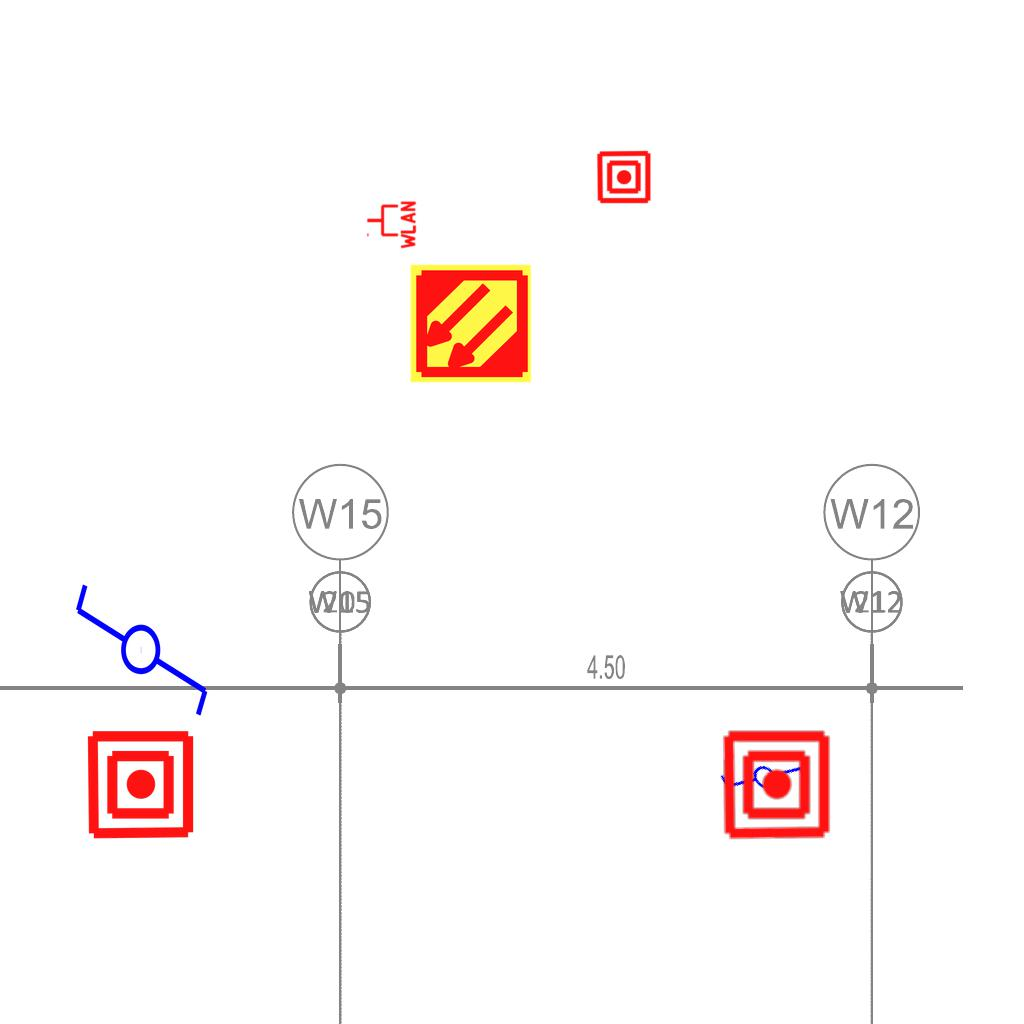ASR_Ansaugrauchmelder: (408, 261, 533, 386)
NAM-Nichtautomatischer_Melder: (84, 728, 197, 841), (720, 728, 833, 841), (596, 149, 652, 205)
WLAN: (365, 199, 417, 251)
Wechselschalter: (71, 563, 215, 720), (713, 728, 821, 834)
